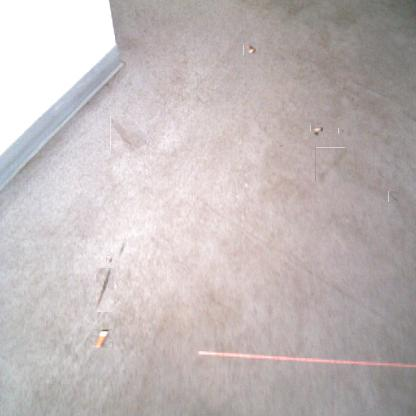dirty: (92, 328, 112, 348), (244, 45, 255, 56), (312, 123, 322, 134)
mark: (110, 115, 147, 151), (315, 147, 345, 182), (96, 268, 114, 312), (116, 240, 126, 258), (389, 190, 401, 203), (339, 128, 347, 135), (277, 144, 284, 151), (106, 255, 112, 263)
